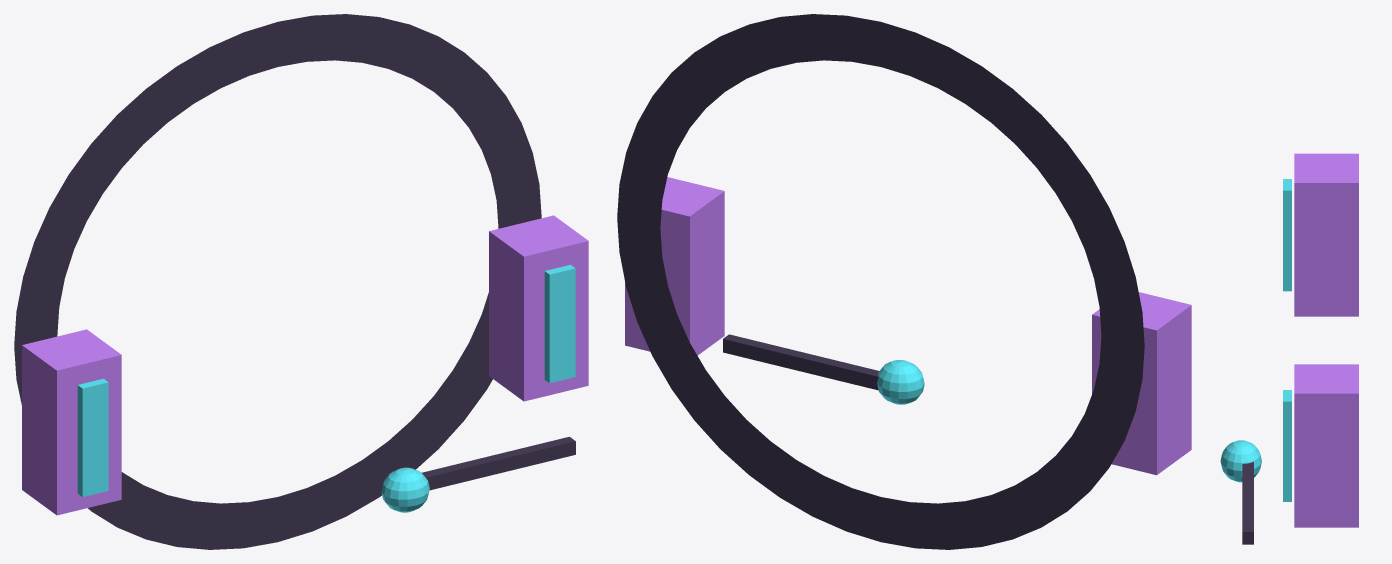
Rendered from cyber-headset.glb.
The picture shows the model from 3 angles, left to right: view 1: azimuth 30°, elevation 25°; view 2: azimuth 150°, elevation 25°; view 3: azimuth 270°, elevation 25°; orthographic projection. The views are drawn at different scales.
Parts seen in each view (by area): view 1: headphone band, ear cup (×2), light strip (×2), mic arm, mic tip; view 2: headphone band, ear cup (×2), mic arm, mic tip; view 3: ear cup (×2), light strip (×2), mic tip, mic arm.
Boxes of the visible parts, box(x1,y1,x2,y2) form: headphone band: box(14, 14, 541, 549); ear cup (×2): box(22, 215, 588, 515); light strip (×2): box(77, 264, 575, 496); mic arm: box(422, 436, 575, 490); mic tip: box(381, 467, 429, 512); headphone band: box(617, 14, 1144, 549); ear cup (×2): box(625, 177, 1191, 475); mic arm: box(723, 334, 879, 390); mic tip: box(877, 360, 924, 404); ear cup (×2): box(1294, 153, 1358, 527); light strip (×2): box(1283, 179, 1291, 501); mic tip: box(1220, 440, 1261, 482); mic arm: box(1242, 462, 1253, 544).
Size of the model in its own units: 2.46 by 2.3 by 0.68.
